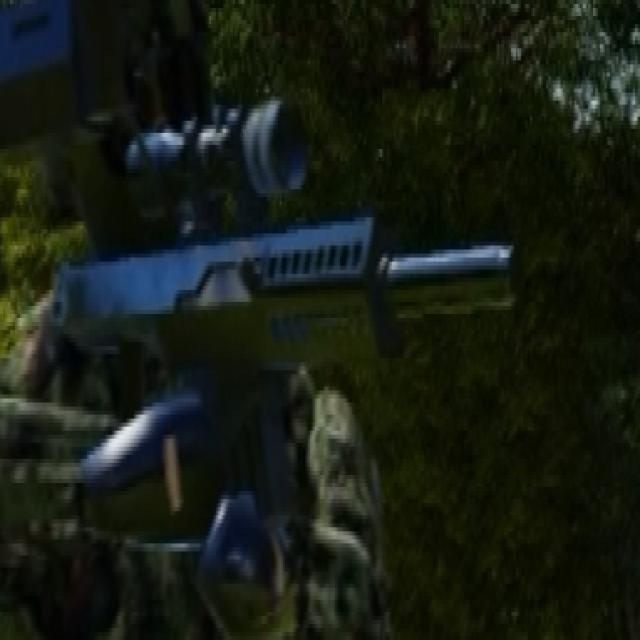RifleTel: (48, 86, 536, 540)
